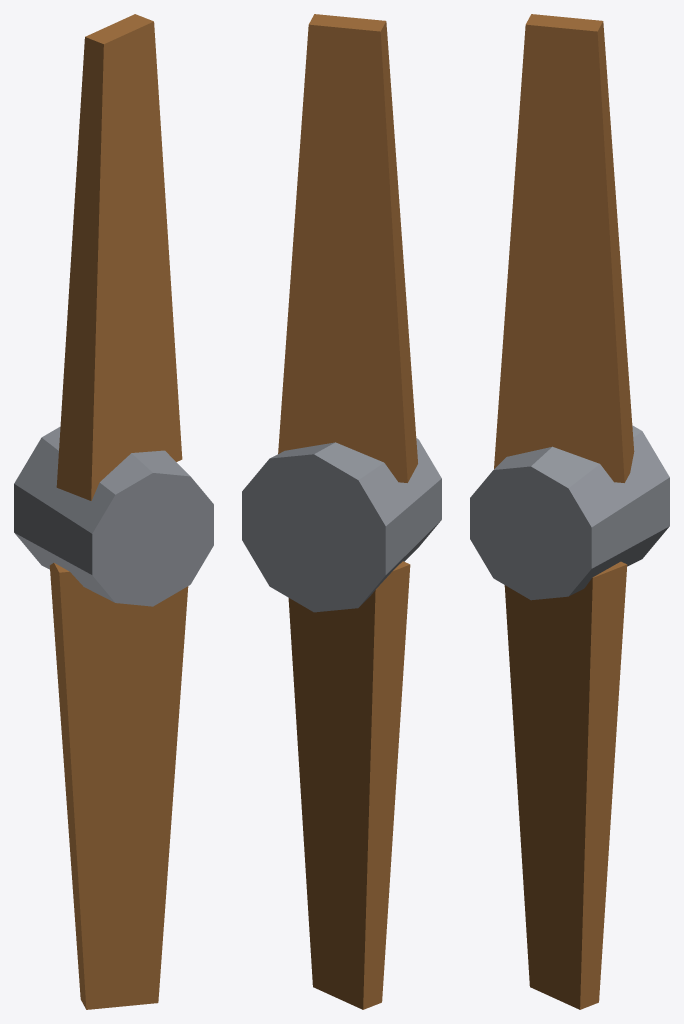
File: propeller.glb
3 views of the same model, side by side, from view 1: azimuth 30°, elevation 25°; view 2: azimuth 150°, elevation 25°; view 3: azimuth 330°, elevation 25° (orthographic).
Visible parts, largest first — view 1: prop_blade_1, prop_blade_0, prop_hub; view 2: prop_blade_0, prop_blade_1, prop_hub; view 3: prop_blade_0, prop_blade_1, prop_hub.
Part boxes in pixels (x1=…): prop_blade_1: x1=49, y1=563, x2=188, y2=1009; prop_blade_0: x1=56, y1=14, x2=182, y2=500; prop_hub: x1=14, y1=426, x2=213, y2=606; prop_blade_0: x1=278, y1=14, x2=417, y2=482; prop_blade_1: x1=288, y1=561, x2=410, y2=1009; prop_hub: x1=242, y1=438, x2=441, y2=612; prop_blade_0: x1=494, y1=14, x2=634, y2=482; prop_blade_1: x1=504, y1=561, x2=627, y2=1009; prop_hub: x1=470, y1=425, x2=669, y2=600.
Size of the model in its own units: 0.2473 by 1.6 by 0.2.
